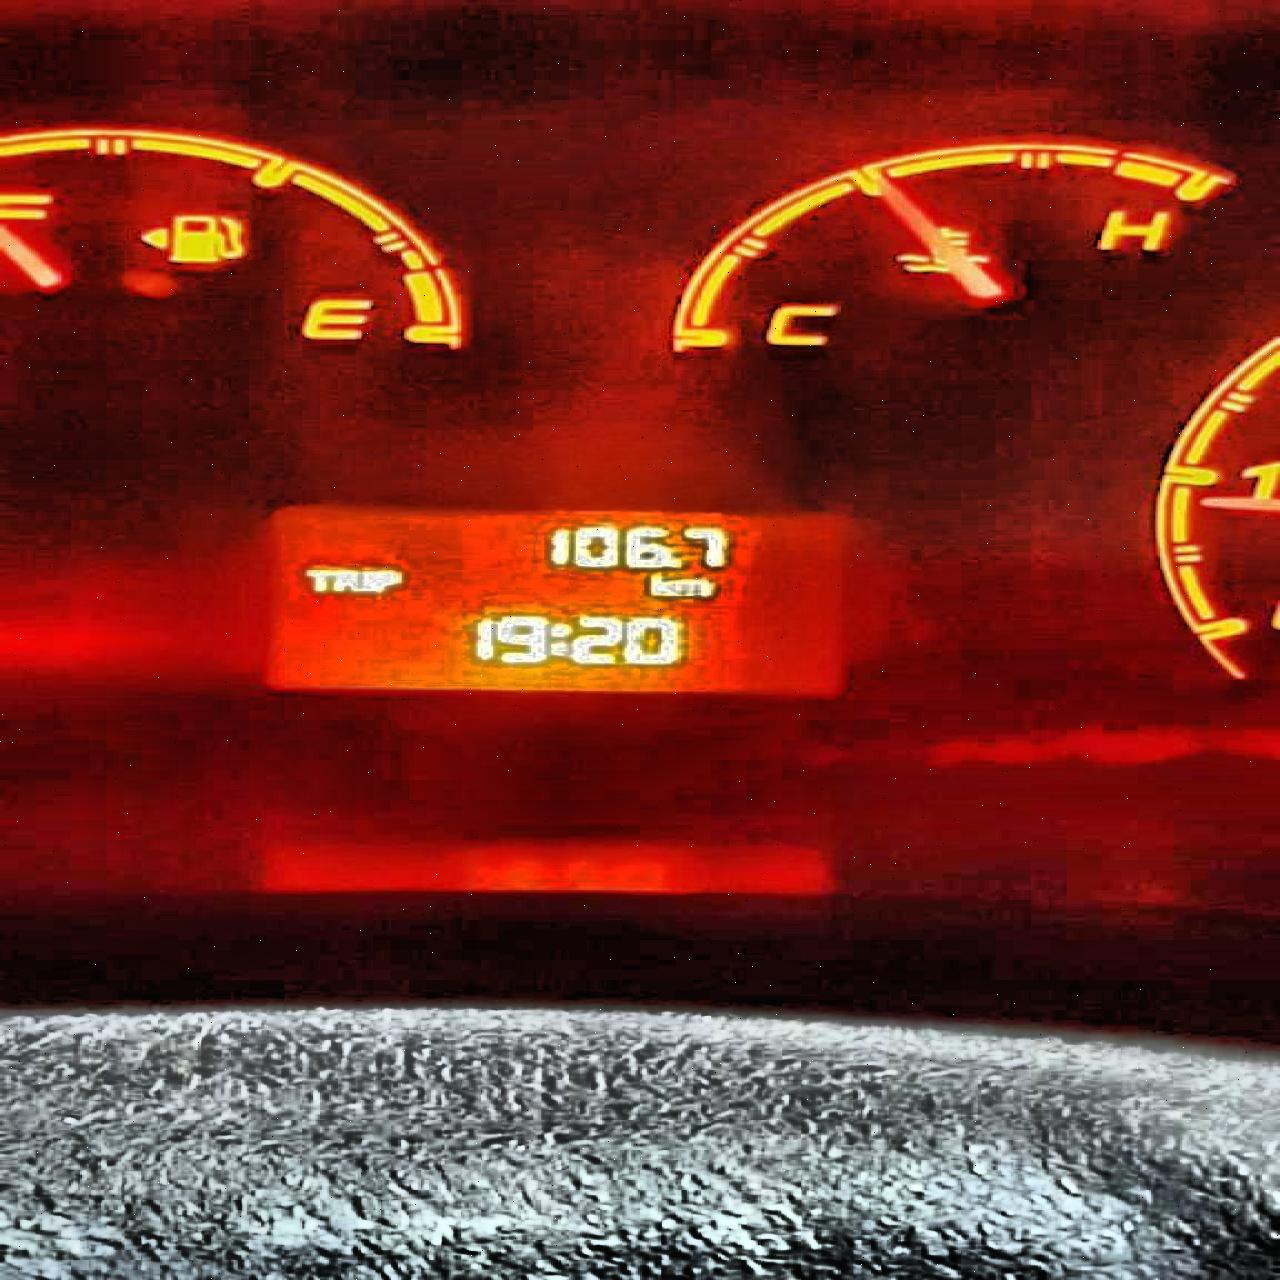-: (667, 557, 680, 568)
0: (620, 615, 680, 663), (568, 524, 618, 568)
1: (469, 618, 493, 661), (544, 525, 568, 566)
2: (568, 614, 622, 665)
6: (620, 525, 667, 568)
7: (678, 526, 729, 567)
9: (493, 614, 546, 663)
X: (675, 577, 717, 599), (547, 620, 568, 656), (300, 567, 331, 592), (374, 567, 402, 593), (331, 567, 360, 592), (647, 573, 673, 599), (358, 567, 373, 592)
odometer: (258, 504, 851, 699)
